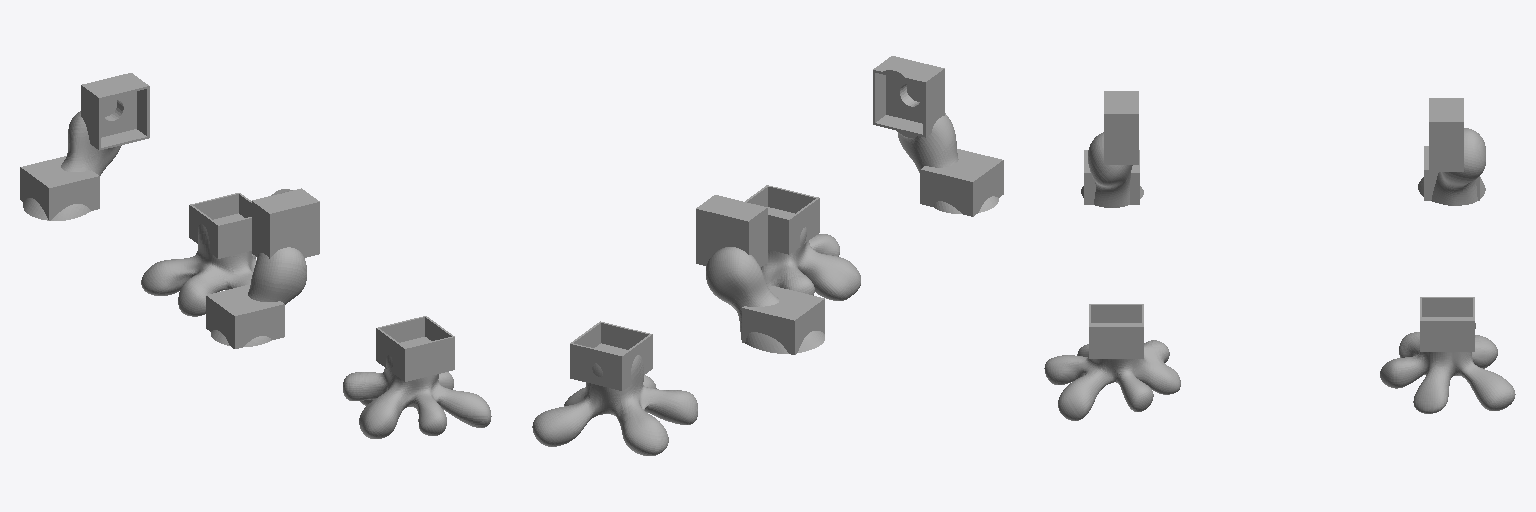
URDF robot description (FrogBot5_top-FrogBot5-y-0_bottom-FrogBot5-y-0):
<?xml version="1.0" ?>
<robot name="FrogBot5_top-FrogBot5-y-0_bottom-FrogBot5-y-0">

<material name="pla_5_percent_infill">
  <color rgba="0.700 0.700 0.700 1.000"/>
</material>

<link name="base_link">
  <inertial>
    <origin xyz="0 0 0" rpy="0 0 0"/>
    <mass value="1.4805118043364613"/>
    <inertia ixx="0.00519778244400068" iyy="0.011185972187213383" izz="0.012581059264896973" ixy="-0.0002102027550041139" iyz="-1.09064860282594e-05" ixz="-0.0008439426245005397"/>
  </inertial>
  <visual>
    <origin xyz="0 0 0" rpy="0 0 0"/>
    <geometry>
      <mesh filename="simple_meshes/base_link.stl" scale="0.001 0.001 0.001"/>
    </geometry>
    <material name="pla_5_percent_infill"/>
  </visual>
  <collision>
    <origin xyz="0 0 0" rpy="0 0 0"/>
    <geometry>
      <mesh filename="simple_meshes/base_link.stl" scale="0.001 0.001 0.001"/>
    </geometry>
  </collision>
</link>

<link name="body_1_0_1">
  <inertial>
    <origin xyz="-0.05492 -0.106321 -0.011198" rpy="0 0 0"/>
    <mass value="0.0284207214045757"/>
    <inertia ixx="1.8296447003283566e-05" iyy="2.0870630875248643e-05" izz="1.0893700887979374e-05" ixy="-1.1136058428664491e-07" iyz="-1.342200551361144e-06" ixz="-7.152540863704391e-07"/>
  </inertial>
  <visual>
    <origin xyz="-0.05492 -0.106321 -0.011198" rpy="0 0 0"/>
    <geometry>
      <mesh filename="simple_meshes/body_1_0_1.stl" scale="0.001 0.001 0.001"/>
    </geometry>
    <material name="pla_5_percent_infill"/>
  </visual>
  <collision>
    <origin xyz="-0.05492 -0.106321 -0.011198" rpy="0 0 0"/>
    <geometry>
      <mesh filename="simple_meshes/body_1_0_1.stl" scale="0.001 0.001 0.001"/>
    </geometry>
  </collision>
</link>

<link name="body_1_1_1">
  <inertial>
    <origin xyz="0.058377 -0.106321 -0.025493" rpy="0 0 0"/>
    <mass value="0.0467007786258117"/>
    <inertia ixx="3.6672199389361755e-05" iyy="5.7293313082967356e-05" izz="3.464596030907491e-05" ixy="-1.9037876071861066e-06" iyz="-1.0296517680480336e-06" ixz="-1.8833200583365863e-05"/>
  </inertial>
  <visual>
    <origin xyz="0.058377 -0.106321 -0.025493" rpy="0 0 0"/>
    <geometry>
      <mesh filename="simple_meshes/body_1_1_1.stl" scale="0.001 0.001 0.001"/>
    </geometry>
    <material name="pla_5_percent_infill"/>
  </visual>
  <collision>
    <origin xyz="0.058377 -0.106321 -0.025493" rpy="0 0 0"/>
    <geometry>
      <mesh filename="simple_meshes/body_1_1_1.stl" scale="0.001 0.001 0.001"/>
    </geometry>
  </collision>
</link>

<link name="body_1_2_1">
  <inertial>
    <origin xyz="-0.053934 0.106321 -0.032331" rpy="0 0 0"/>
    <mass value="0.039412356508567385"/>
    <inertia ixx="3.3859738302612964e-05" iyy="3.8768336306990806e-05" izz="1.4929205440376413e-05" ixy="-5.7057865729490814e-08" iyz="5.052617033718561e-07" ixz="4.962604045759783e-06"/>
  </inertial>
  <visual>
    <origin xyz="-0.053934 0.106321 -0.032331" rpy="0 0 0"/>
    <geometry>
      <mesh filename="simple_meshes/body_1_2_1.stl" scale="0.001 0.001 0.001"/>
    </geometry>
    <material name="pla_5_percent_infill"/>
  </visual>
  <collision>
    <origin xyz="-0.053934 0.106321 -0.032331" rpy="0 0 0"/>
    <geometry>
      <mesh filename="simple_meshes/body_1_2_1.stl" scale="0.001 0.001 0.001"/>
    </geometry>
  </collision>
</link>

<link name="body_1_3_1">
  <inertial>
    <origin xyz="0.057483 0.106321 -0.032919" rpy="0 0 0"/>
    <mass value="0.0450614391280621"/>
    <inertia ixx="3.885426826099529e-05" iyy="5.497182815432166e-05" izz="2.7734327558284495e-05" ixy="-4.1353950352008943e-07" iyz="-1.0409302496949935e-06" ixz="-1.6855625718216187e-05"/>
  </inertial>
  <visual>
    <origin xyz="0.057483 0.106321 -0.032919" rpy="0 0 0"/>
    <geometry>
      <mesh filename="simple_meshes/body_1_3_1.stl" scale="0.001 0.001 0.001"/>
    </geometry>
    <material name="pla_5_percent_infill"/>
  </visual>
  <collision>
    <origin xyz="0.057483 0.106321 -0.032919" rpy="0 0 0"/>
    <geometry>
      <mesh filename="simple_meshes/body_1_3_1.stl" scale="0.001 0.001 0.001"/>
    </geometry>
  </collision>
</link>

<link name="body_2_0_1">
  <inertial>
    <origin xyz="-0.051784 -0.142449 0.070454" rpy="0 0 0"/>
    <mass value="0.07119234492465876"/>
    <inertia ixx="6.380687879835268e-05" iyy="7.117852254104394e-05" izz="9.170108759015694e-05" ixy="-4.6095684011031855e-06" iyz="3.17495900156446e-06" ixz="-2.5621992589072327e-07"/>
  </inertial>
  <visual>
    <origin xyz="-0.051784 -0.142449 0.070454" rpy="0 0 0"/>
    <geometry>
      <mesh filename="simple_meshes/body_2_0_1.stl" scale="0.001 0.001 0.001"/>
    </geometry>
    <material name="pla_5_percent_infill"/>
  </visual>
  <collision>
    <origin xyz="-0.051784 -0.142449 0.070454" rpy="0 0 0"/>
    <geometry>
      <mesh filename="simple_meshes/body_2_0_1.stl" scale="0.001 0.001 0.001"/>
    </geometry>
  </collision>
</link>

<link name="body_2_1_1">
  <inertial>
    <origin xyz="0.108798 -0.146527 0.070454" rpy="0 0 0"/>
    <mass value="0.07367072605228475"/>
    <inertia ixx="3.572427599797751e-05" iyy="5.400442872284094e-05" izz="5.974493842843395e-05" ixy="-1.6950979700041963e-06" iyz="1.0194224505776645e-08" ixz="-4.233505569543883e-07"/>
  </inertial>
  <visual>
    <origin xyz="0.108798 -0.146527 0.070454" rpy="0 0 0"/>
    <geometry>
      <mesh filename="simple_meshes/body_2_1_1.stl" scale="0.001 0.001 0.001"/>
    </geometry>
    <material name="pla_5_percent_infill"/>
  </visual>
  <collision>
    <origin xyz="0.108798 -0.146527 0.070454" rpy="0 0 0"/>
    <geometry>
      <mesh filename="simple_meshes/body_2_1_1.stl" scale="0.001 0.001 0.001"/>
    </geometry>
  </collision>
</link>

<link name="body_2_2_1">
  <inertial>
    <origin xyz="-0.065031 0.146225 0.070454" rpy="0 0 0"/>
    <mass value="0.07006632208772473"/>
    <inertia ixx="6.299021138840045e-05" iyy="6.12642794647505e-05" izz="8.398243771008391e-05" ixy="6.100618330018141e-06" iyz="-1.3910502678364436e-06" ixz="-2.386744684835661e-06"/>
  </inertial>
  <visual>
    <origin xyz="-0.065031 0.146225 0.070454" rpy="0 0 0"/>
    <geometry>
      <mesh filename="simple_meshes/body_2_2_1.stl" scale="0.001 0.001 0.001"/>
    </geometry>
    <material name="pla_5_percent_infill"/>
  </visual>
  <collision>
    <origin xyz="-0.065031 0.146225 0.070454" rpy="0 0 0"/>
    <geometry>
      <mesh filename="simple_meshes/body_2_2_1.stl" scale="0.001 0.001 0.001"/>
    </geometry>
  </collision>
</link>

<link name="body_2_3_1">
  <inertial>
    <origin xyz="0.101339 0.150086 0.070454" rpy="0 0 0"/>
    <mass value="0.08619964943966073"/>
    <inertia ixx="4.660632582605129e-05" iyy="7.608426308509204e-05" izz="7.477763479257727e-05" ixy="6.638155872055497e-07" iyz="-1.990505729709954e-06" ixz="4.721548914119085e-06"/>
  </inertial>
  <visual>
    <origin xyz="0.101339 0.150086 0.070454" rpy="0 0 0"/>
    <geometry>
      <mesh filename="simple_meshes/body_2_3_1.stl" scale="0.001 0.001 0.001"/>
    </geometry>
    <material name="pla_5_percent_infill"/>
  </visual>
  <collision>
    <origin xyz="0.101339 0.150086 0.070454" rpy="0 0 0"/>
    <geometry>
      <mesh filename="simple_meshes/body_2_3_1.stl" scale="0.001 0.001 0.001"/>
    </geometry>
  </collision>
</link>

<joint name="joint_1_0" type="revolute">
  <origin xyz="0.05492 0.106321 0.011198" rpy="0 0 0"/>
  <parent link="base_link"/>
  <child link="body_1_0_1"/>
  <axis xyz="0.0 0.0 -1.0"/>
  <limit upper="1.2" lower="-1.2" effort="3.8" velocity="5.4"/>
</joint>
<transmission name="joint_1_0_tran">
  <type>transmission_interface/SimpleTransmission</type>
  <joint name="joint_1_0">
    <hardwareInterface>PositionJointInterface</hardwareInterface>
  </joint>
  <actuator name="joint_1_0_actr">
    <hardwareInterface>PositionJointInterface</hardwareInterface>
    <mechanicalReduction>1</mechanicalReduction>
  </actuator>
</transmission>

<joint name="joint_1_1" type="revolute">
  <origin xyz="-0.058377 0.106321 0.025493" rpy="0 0 0"/>
  <parent link="base_link"/>
  <child link="body_1_1_1"/>
  <axis xyz="0.0 0.0 -1.0"/>
  <limit upper="1.2" lower="-1.2" effort="3.8" velocity="5.4"/>
</joint>
<transmission name="joint_1_1_tran">
  <type>transmission_interface/SimpleTransmission</type>
  <joint name="joint_1_1">
    <hardwareInterface>PositionJointInterface</hardwareInterface>
  </joint>
  <actuator name="joint_1_1_actr">
    <hardwareInterface>PositionJointInterface</hardwareInterface>
    <mechanicalReduction>1</mechanicalReduction>
  </actuator>
</transmission>

<joint name="joint_1_2" type="revolute">
  <origin xyz="0.053934 -0.106321 0.032331" rpy="0 0 0"/>
  <parent link="base_link"/>
  <child link="body_1_2_1"/>
  <axis xyz="0.0 0.0 -1.0"/>
  <limit upper="1.2" lower="-1.2" effort="3.8" velocity="5.4"/>
</joint>
<transmission name="joint_1_2_tran">
  <type>transmission_interface/SimpleTransmission</type>
  <joint name="joint_1_2">
    <hardwareInterface>PositionJointInterface</hardwareInterface>
  </joint>
  <actuator name="joint_1_2_actr">
    <hardwareInterface>PositionJointInterface</hardwareInterface>
    <mechanicalReduction>1</mechanicalReduction>
  </actuator>
</transmission>

<joint name="joint_1_3" type="revolute">
  <origin xyz="-0.057483 -0.106321 0.032919" rpy="0 0 0"/>
  <parent link="base_link"/>
  <child link="body_1_3_1"/>
  <axis xyz="0.0 0.0 -1.0"/>
  <limit upper="1.2" lower="-1.2" effort="3.8" velocity="5.4"/>
</joint>
<transmission name="joint_1_3_tran">
  <type>transmission_interface/SimpleTransmission</type>
  <joint name="joint_1_3">
    <hardwareInterface>PositionJointInterface</hardwareInterface>
  </joint>
  <actuator name="joint_1_3_actr">
    <hardwareInterface>PositionJointInterface</hardwareInterface>
    <mechanicalReduction>1</mechanicalReduction>
  </actuator>
</transmission>

<joint name="joint_2_0" type="revolute">
  <origin xyz="-0.003136 0.036128 -0.081652" rpy="0 0 0"/>
  <parent link="body_1_0_1"/>
  <child link="body_2_0_1"/>
  <axis xyz="0.0 1.0 0.0"/>
  <limit upper="1.2" lower="-1.2" effort="3.8" velocity="5.4"/>
</joint>
<transmission name="joint_2_0_tran">
  <type>transmission_interface/SimpleTransmission</type>
  <joint name="joint_2_0">
    <hardwareInterface>PositionJointInterface</hardwareInterface>
  </joint>
  <actuator name="joint_2_0_actr">
    <hardwareInterface>PositionJointInterface</hardwareInterface>
    <mechanicalReduction>1</mechanicalReduction>
  </actuator>
</transmission>

<joint name="joint_2_1" type="revolute">
  <origin xyz="-0.050421 0.040206 -0.095947" rpy="0 0 0"/>
  <parent link="body_1_1_1"/>
  <child link="body_2_1_1"/>
  <axis xyz="0.0 1.0 0.0"/>
  <limit upper="1.2" lower="-1.2" effort="3.8" velocity="5.4"/>
</joint>
<transmission name="joint_2_1_tran">
  <type>transmission_interface/SimpleTransmission</type>
  <joint name="joint_2_1">
    <hardwareInterface>PositionJointInterface</hardwareInterface>
  </joint>
  <actuator name="joint_2_1_actr">
    <hardwareInterface>PositionJointInterface</hardwareInterface>
    <mechanicalReduction>1</mechanicalReduction>
  </actuator>
</transmission>

<joint name="joint_2_2" type="revolute">
  <origin xyz="0.011097 -0.039904 -0.102785" rpy="0 0 0"/>
  <parent link="body_1_2_1"/>
  <child link="body_2_2_1"/>
  <axis xyz="0.0 1.0 0.0"/>
  <limit upper="1.2" lower="-1.2" effort="3.8" velocity="5.4"/>
</joint>
<transmission name="joint_2_2_tran">
  <type>transmission_interface/SimpleTransmission</type>
  <joint name="joint_2_2">
    <hardwareInterface>PositionJointInterface</hardwareInterface>
  </joint>
  <actuator name="joint_2_2_actr">
    <hardwareInterface>PositionJointInterface</hardwareInterface>
    <mechanicalReduction>1</mechanicalReduction>
  </actuator>
</transmission>

<joint name="joint_2_3" type="revolute">
  <origin xyz="-0.043856 -0.043765 -0.103373" rpy="0 0 0"/>
  <parent link="body_1_3_1"/>
  <child link="body_2_3_1"/>
  <axis xyz="0.0 1.0 0.0"/>
  <limit upper="1.2" lower="-1.2" effort="3.8" velocity="5.4"/>
</joint>
<transmission name="joint_2_3_tran">
  <type>transmission_interface/SimpleTransmission</type>
  <joint name="joint_2_3">
    <hardwareInterface>PositionJointInterface</hardwareInterface>
  </joint>
  <actuator name="joint_2_3_actr">
    <hardwareInterface>PositionJointInterface</hardwareInterface>
    <mechanicalReduction>1</mechanicalReduction>
  </actuator>
</transmission>

</robot>

--- Facts derived from the render (not from the file) ---
Views: 3 orthographic renders of the robot side by side, from view 1: azimuth 30°, elevation 25°; view 2: azimuth 150°, elevation 25°; view 3: azimuth 270°, elevation 25°.
Robot: FrogBot5_top-FrogBot5-y-0_bottom-FrogBot5-y-0 — 9 links, 8 joints (8 revolute); root link base_link; default pose: all joints at 0.
Links seen in each view (by area): view 1: body_2_2_1, body_1_3_1, body_1_1_1, body_2_0_1; view 2: body_2_0_1, body_1_1_1, body_1_3_1, body_2_2_1; view 3: body_2_2_1, body_2_0_1, body_1_1_1, body_1_3_1.
Link boxes in pixels (box(x1,y1,x2,y2)): body_2_2_1: box(343, 316, 491, 438); body_1_3_1: box(206, 188, 319, 348); body_1_1_1: box(20, 73, 149, 220); body_2_0_1: box(141, 193, 256, 316); body_2_0_1: box(532, 321, 697, 455); body_1_1_1: box(696, 195, 824, 354); body_1_3_1: box(873, 56, 1003, 216); body_2_2_1: box(745, 185, 860, 300); body_2_2_1: box(1044, 304, 1180, 420); body_2_0_1: box(1380, 297, 1515, 413); body_1_1_1: box(1418, 98, 1485, 205); body_1_3_1: box(1081, 91, 1143, 207).
Size in the robot's own frame: 0.2569 by 0.411 by 0.2336 metres.
4 mesh visuals loaded from 9 distinct referenced files (4 binary STL); not drawn: 5 (reference not matched to a file when rendering).